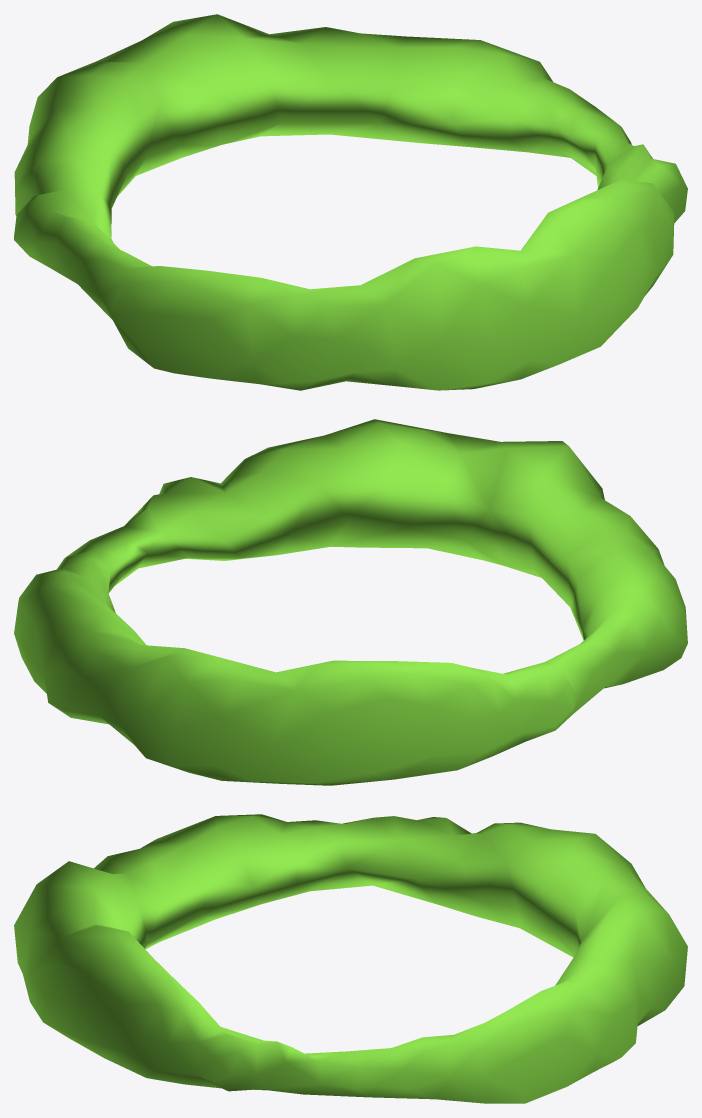
Rendered from p_mesh_trashbot_vollybomb_impactwave01.fbx.
The picture shows the model from 3 angles, top to bottom: view 1: azimuth 30°, elevation 25°; view 2: azimuth 150°, elevation 25°; view 3: azimuth 270°, elevation 25°; orthographic projection. The views are drawn at different scales.
Visible parts, largest first — view 1: Slimewave; view 2: Slimewave; view 3: Slimewave.
Part boxes in pixels (x1,y1,x2,y2): Slimewave: (14, 14, 687, 390); Slimewave: (14, 419, 687, 785); Slimewave: (14, 814, 687, 1103).
Bounding box in the file's own units: 12.61 × 2.64 × 14.29.
